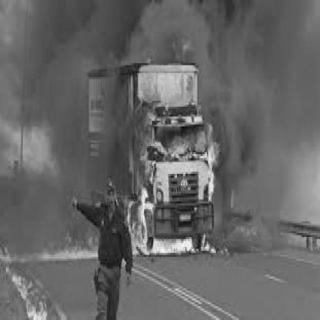Fire: (133, 122, 221, 196), (113, 188, 160, 268), (4, 244, 51, 316), (152, 222, 218, 254), (43, 235, 99, 258), (168, 29, 190, 57)
Smoke: (10, 6, 110, 176)
